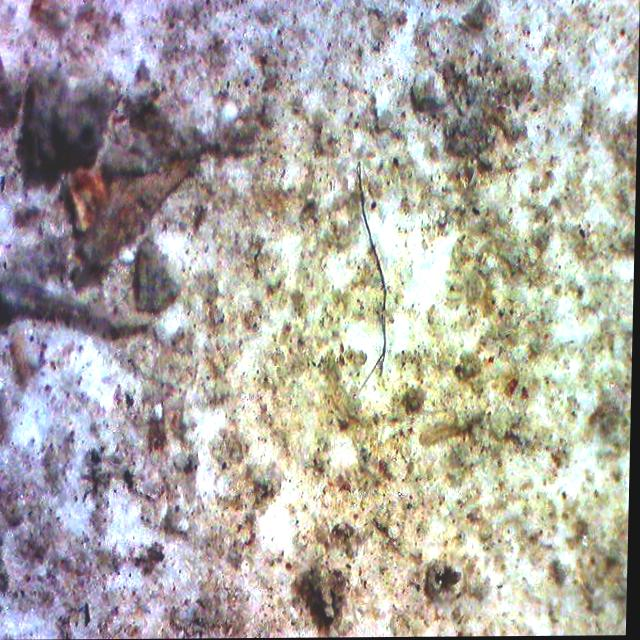microplastic: (357, 163, 388, 395)
